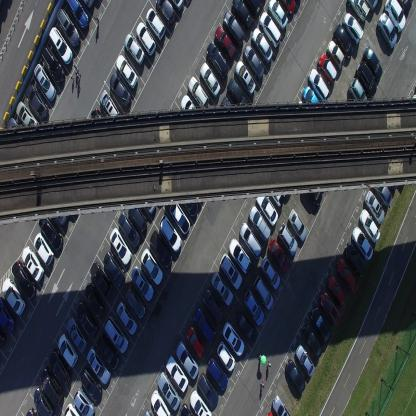car: (40, 44, 66, 85), (11, 260, 37, 300), (104, 313, 129, 354), (56, 6, 80, 48), (37, 214, 64, 251), (49, 25, 73, 66), (86, 346, 111, 385), (40, 366, 64, 406), (344, 240, 368, 280), (175, 340, 199, 380), (149, 229, 173, 268), (140, 247, 164, 286), (33, 63, 57, 102), (159, 213, 182, 253), (157, 371, 180, 411), (130, 264, 154, 302), (206, 41, 230, 79), (238, 221, 262, 259), (228, 237, 252, 275), (2, 278, 26, 316), (48, 348, 71, 387), (258, 10, 281, 49), (336, 256, 359, 295), (96, 333, 119, 371), (193, 307, 216, 345), (227, 76, 251, 112), (165, 356, 189, 392), (21, 246, 45, 282), (110, 226, 132, 265), (199, 60, 221, 99), (222, 9, 244, 48), (248, 204, 271, 241), (25, 83, 48, 120), (118, 211, 140, 249), (90, 260, 112, 298), (252, 26, 274, 64), (351, 224, 373, 262), (319, 289, 341, 327), (220, 252, 242, 290), (222, 321, 245, 357), (66, 315, 87, 354), (243, 288, 264, 327), (301, 84, 325, 118), (108, 73, 132, 107), (103, 250, 125, 287), (214, 25, 236, 62), (234, 59, 256, 96), (256, 189, 278, 226), (116, 53, 138, 90), (383, 0, 406, 35), (210, 271, 233, 306), (302, 322, 323, 360), (253, 273, 274, 311), (168, 200, 190, 236), (176, 181, 198, 217), (124, 284, 146, 320), (116, 300, 138, 336), (75, 301, 97, 337), (187, 75, 209, 111), (242, 43, 264, 79), (268, 237, 290, 273), (202, 288, 224, 324), (206, 356, 228, 392), (196, 372, 218, 408), (99, 88, 121, 124), (79, 367, 102, 401), (235, 310, 258, 344), (310, 304, 330, 343), (358, 207, 380, 242), (84, 282, 104, 320), (333, 22, 353, 60), (135, 179, 156, 215), (356, 60, 377, 96), (260, 254, 281, 290), (33, 231, 54, 267), (64, 0, 89, 30), (308, 68, 330, 102), (123, 32, 145, 66), (16, 100, 40, 131), (136, 20, 156, 57), (220, 94, 241, 129), (285, 358, 306, 393), (342, 12, 364, 45), (378, 10, 397, 48), (58, 332, 78, 368), (362, 45, 382, 81), (288, 207, 308, 243), (277, 223, 298, 257), (145, 6, 166, 40), (318, 52, 338, 87), (295, 342, 315, 377), (6, 115, 26, 150), (180, 94, 201, 127), (90, 106, 112, 137), (364, 190, 384, 224), (303, 174, 323, 208), (231, 0, 253, 30), (267, 0, 289, 30), (372, 176, 392, 209), (349, 76, 368, 110), (33, 386, 54, 416), (186, 325, 205, 358), (50, 194, 69, 227), (327, 274, 346, 306), (73, 388, 95, 415), (128, 202, 147, 233), (327, 39, 345, 71), (217, 340, 235, 372), (190, 389, 212, 415), (0, 296, 15, 334), (150, 388, 171, 415), (155, 0, 176, 26), (346, 0, 369, 23), (267, 178, 285, 207), (271, 394, 291, 415), (242, 0, 261, 15), (279, 0, 296, 15), (63, 402, 81, 416), (363, 0, 379, 14), (169, 0, 184, 14), (0, 322, 8, 346), (396, 0, 410, 12), (179, 403, 193, 415), (25, 406, 38, 416), (82, 0, 94, 9), (141, 408, 153, 416)
